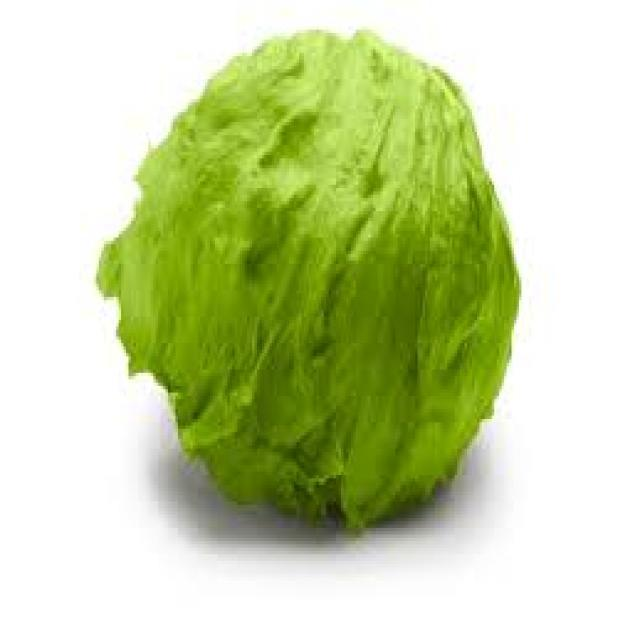Lettuce: (94, 26, 518, 538)
